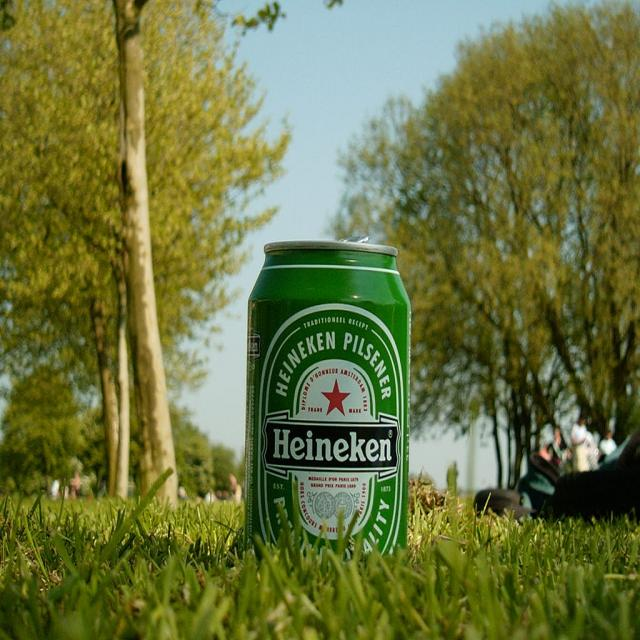heineken: (259, 303, 405, 549)
